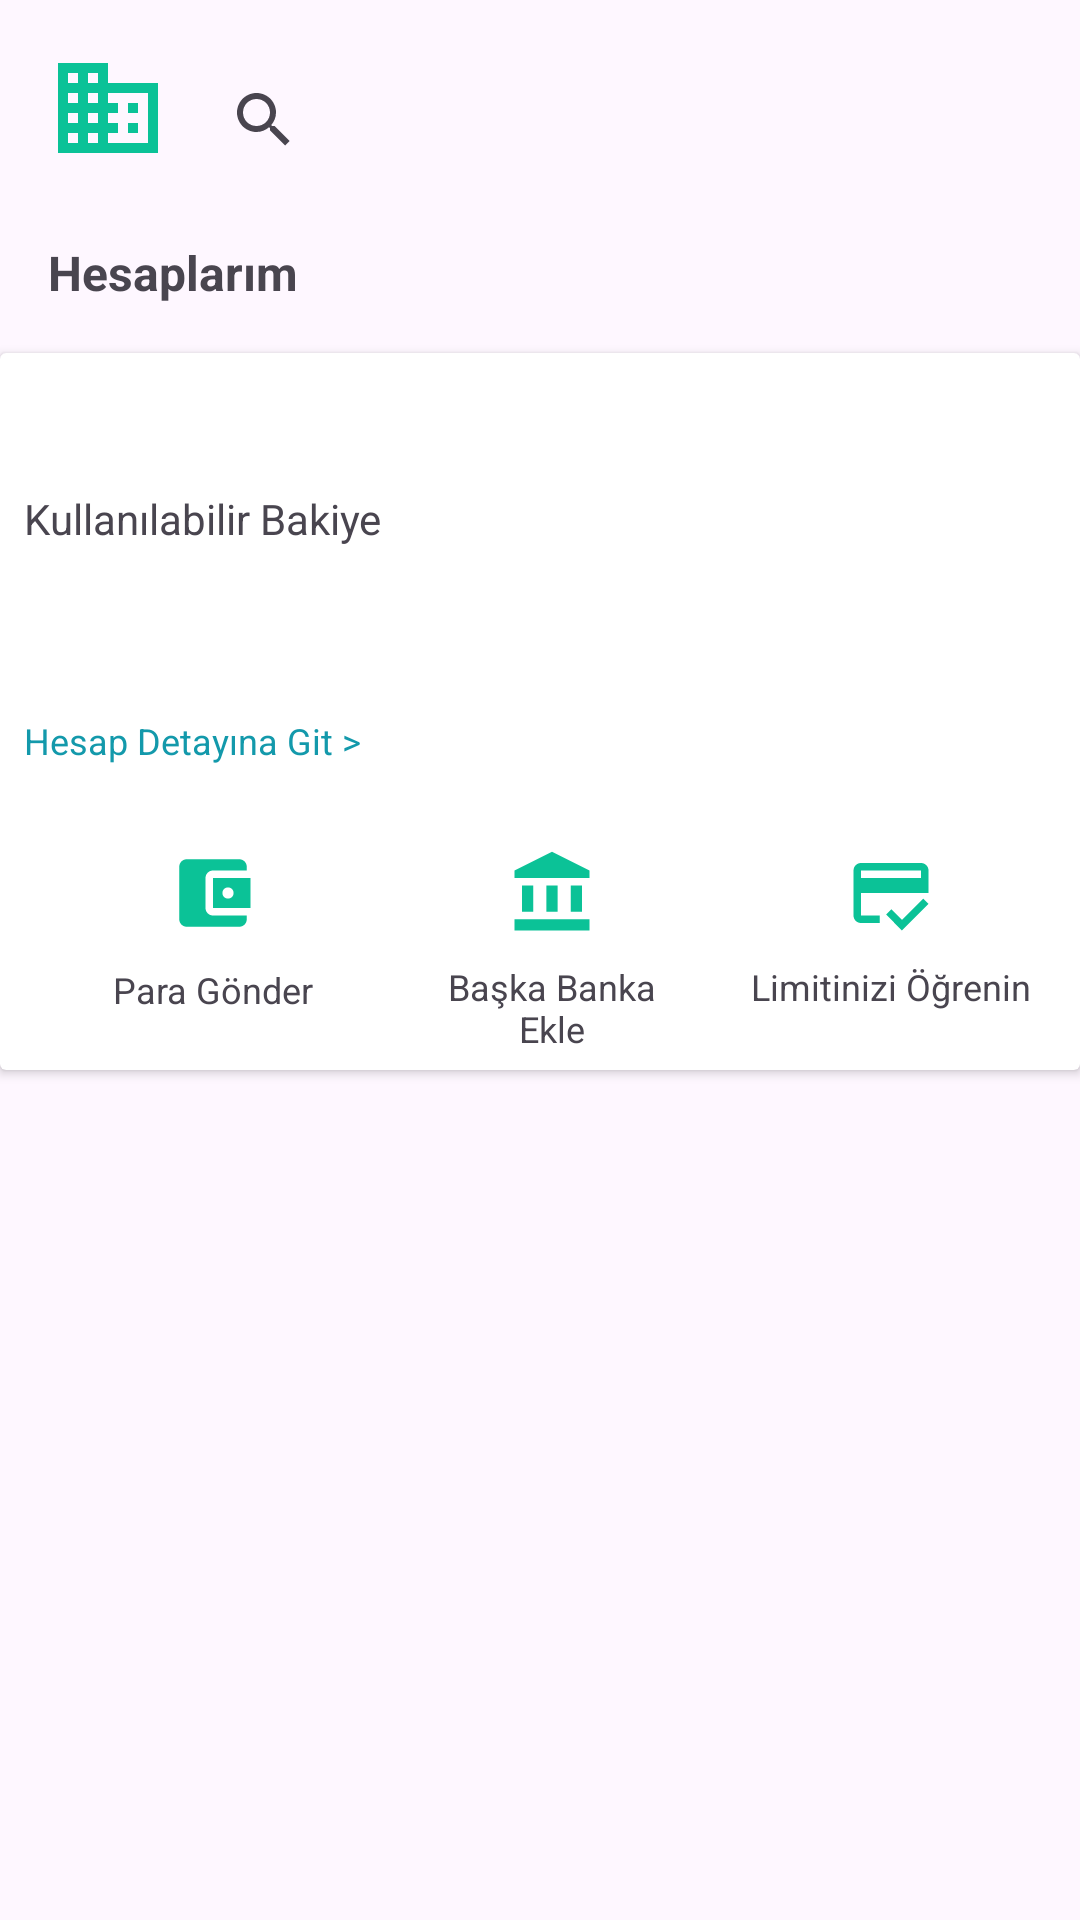

Icon click points for this 1080*1920 phone screenshot, format [x,y]:
account balance: [552,891]
account balance wallet: [215,893]
business: [108,108]
credit score: [891,897]
